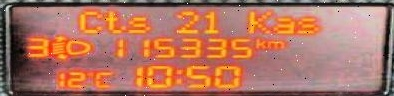0: (144, 64, 171, 87), (214, 64, 241, 87)
1: (202, 10, 218, 34), (139, 38, 151, 57), (133, 65, 143, 86), (114, 38, 124, 57), (56, 71, 64, 86)
2: (174, 10, 198, 33), (65, 70, 84, 87)
3: (177, 37, 201, 58), (202, 37, 226, 58), (26, 37, 49, 57)
5: (184, 64, 211, 88), (228, 37, 252, 58), (151, 37, 174, 58)
X: (48, 34, 91, 59), (77, 9, 102, 34), (246, 10, 272, 34), (103, 10, 126, 33), (293, 16, 319, 34), (126, 15, 150, 33), (272, 16, 295, 33), (93, 70, 111, 87), (265, 40, 285, 48), (172, 68, 182, 84), (253, 37, 265, 48)
